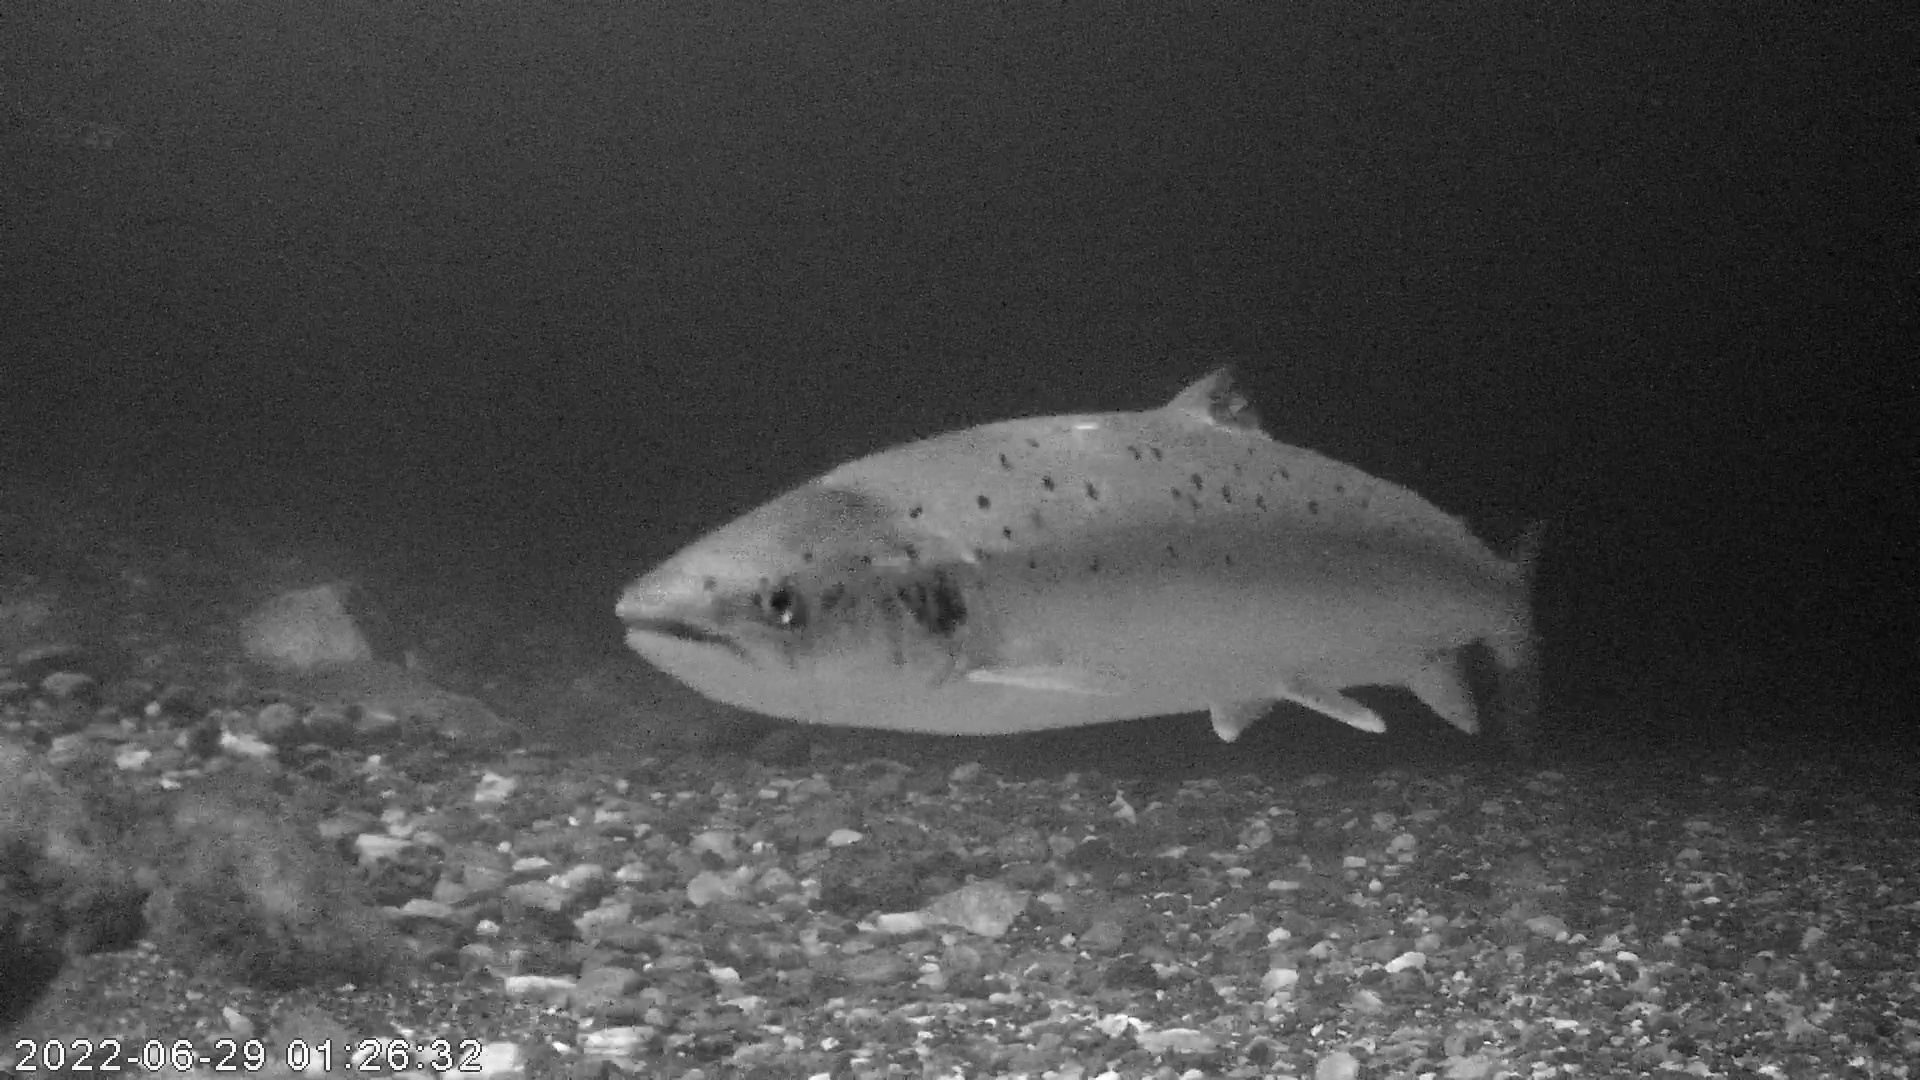salmon: (603, 349, 1556, 750)
